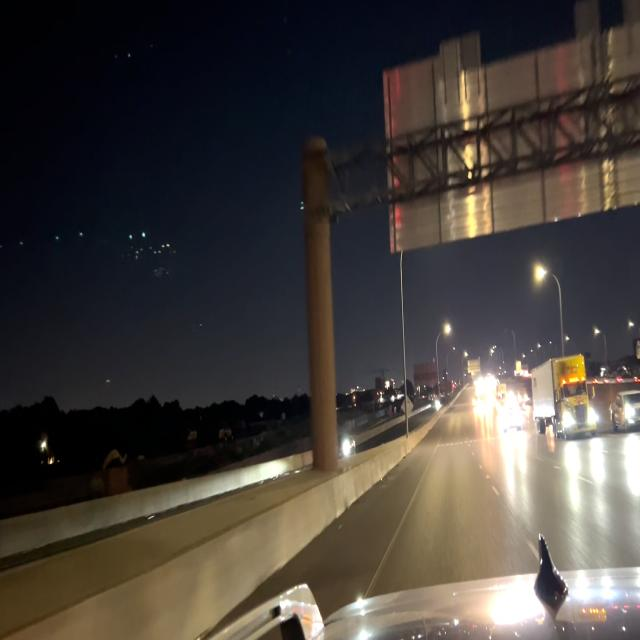back-of-sign: (381, 0, 640, 253)
